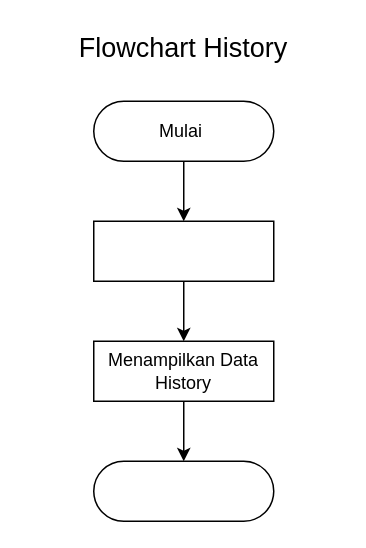
Image size: 366x548. Some labels were removed from this diagram. Each missing label, with the centre of its shape:
"Home" goes at pixel 183 250.
"Selesai" goes at pixel 183 490.
